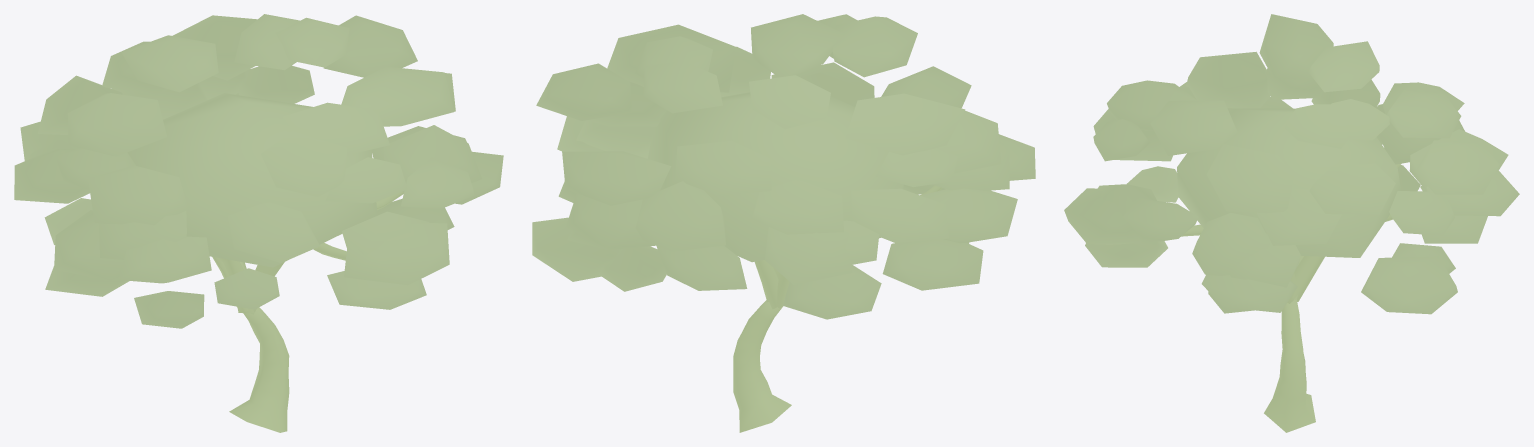
Rendered from Blender_Mesquite_1_Far.glb.
The picture shows the model from 3 angles, left to right: view 1: azimuth 30°, elevation 25°; view 2: azimuth 150°, elevation 25°; view 3: azimuth 270°, elevation 25°; orthographic projection. The views are drawn at different scales.
Parts seen in each view (by area): view 1: Blender_Mesquite_1_Far; view 2: Blender_Mesquite_1_Far; view 3: Blender_Mesquite_1_Far.
Part boxes in pixels (x1,y1,x2,y2): Blender_Mesquite_1_Far: (14, 14, 503, 432); Blender_Mesquite_1_Far: (532, 14, 1035, 432); Blender_Mesquite_1_Far: (1064, 14, 1519, 432).
Size of the model in its own units: 9.33 by 7.76 by 9.17.
